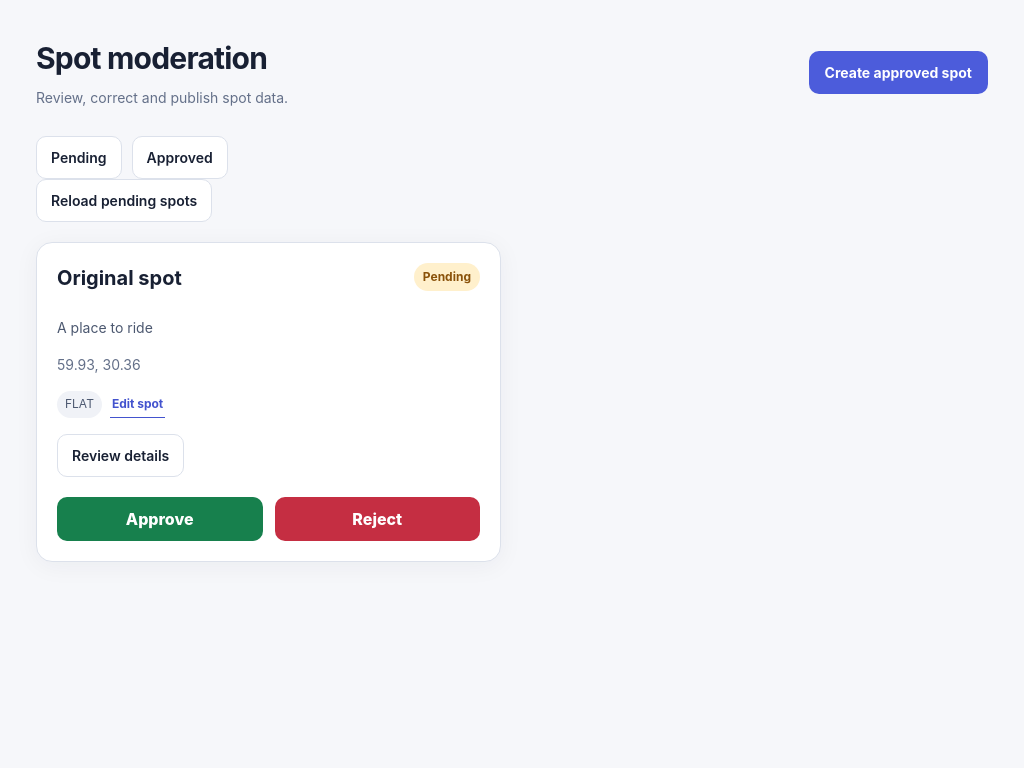
retains the item and reports a concurrent approval
Click the button "Reject". click: (377, 519)
box: [274,497,480,541]
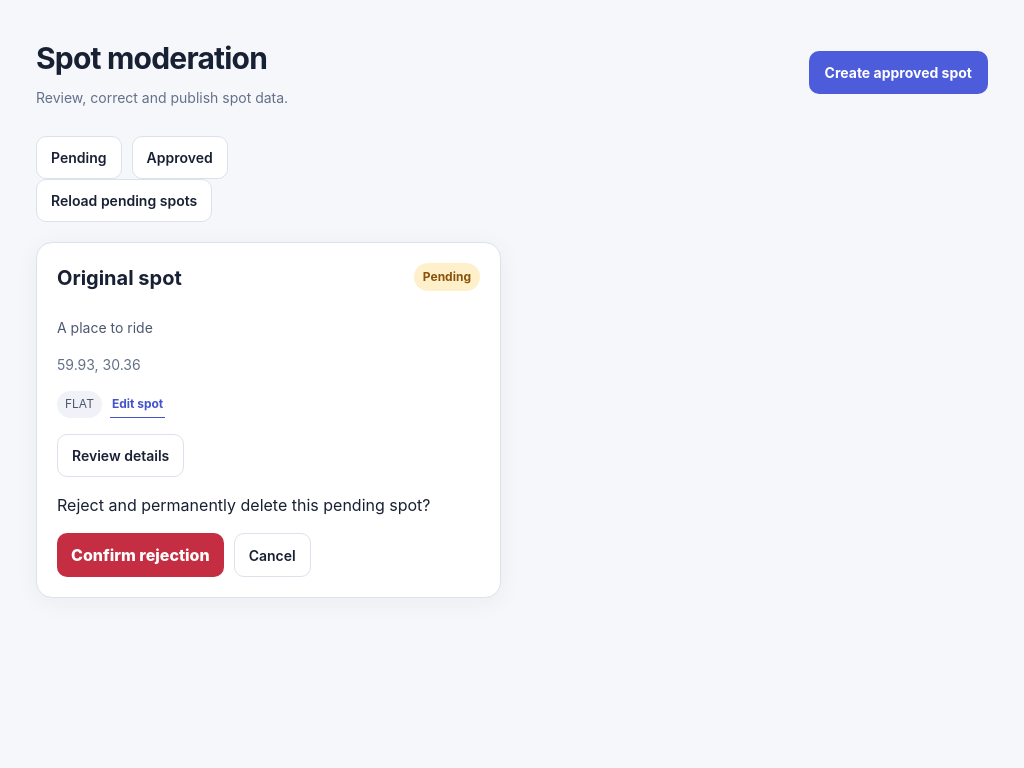
Click the button "Confirm rejection". click: (140, 555)
box: [57,533,224,577]
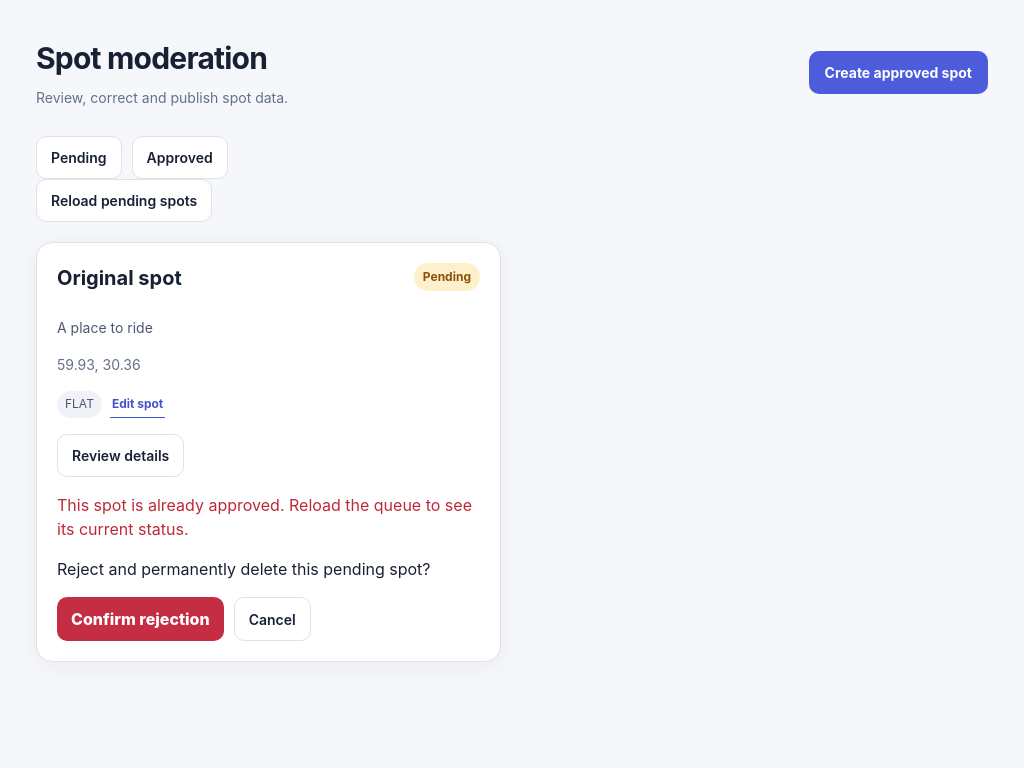
Expected: the heading "Original spot" is shown, [57,263,182,293]
Expected: the text "This spot is already approved. Reload the queue to see its current status." is shown, [57,493,480,541]
